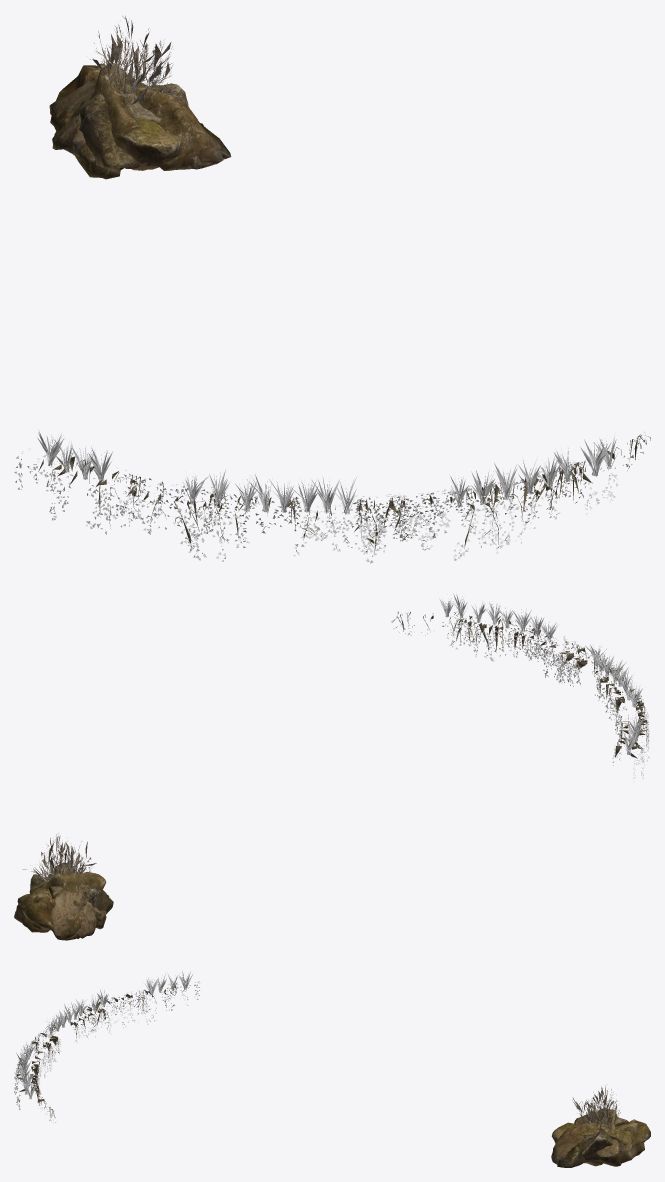
Rendered from vegetation.glb.
3 renders of one model, top to bottom at view 1: azimuth 30°, elevation 25°; view 2: azimuth 150°, elevation 25°; view 3: azimuth 270°, elevation 25°, orthographic. The views are drawn at different scales.
Parts seen in each view (by area): view 1: VEG_17, VEG_21, VEG_28, VEG_18, VEG_30, VEG_32, VEG_31, VEG_20, VEG_7, VEG_33, VEG_23, VEG_8; view 2: VEG_17, VEG_18, VEG_32, VEG_20, VEG_28, VEG_30, VEG_7, VEG_21, VEG_33, VEG_31, VEG_23; view 3: VEG_17, VEG_28, VEG_18, VEG_33, VEG_31, VEG_20, VEG_21, VEG_32, VEG_7, VEG_30, VEG_23, VEG_8 (+1 smaller).
Boxes of the visible parts, box(x1,y1,x2,y2) form: VEG_17: box(37, 430, 617, 514); VEG_21: box(14, 448, 618, 563); VEG_28: box(50, 65, 223, 179); VEG_18: box(69, 431, 645, 540); VEG_30: box(71, 83, 188, 167); VEG_32: box(49, 76, 231, 169); VEG_31: box(65, 79, 182, 170); VEG_20: box(69, 435, 650, 537); VEG_7: box(90, 16, 178, 104); VEG_33: box(73, 63, 143, 155); VEG_23: box(38, 459, 592, 553); VEG_8: box(101, 36, 170, 102); VEG_17: box(439, 594, 644, 754); VEG_18: box(390, 611, 628, 762); VEG_32: box(45, 883, 96, 940); VEG_20: box(392, 611, 629, 757); VEG_28: box(22, 863, 106, 939); VEG_30: box(29, 874, 113, 914); VEG_7: box(22, 834, 96, 882); VEG_21: box(454, 608, 649, 782); VEG_33: box(17, 872, 100, 938); VEG_31: box(14, 871, 106, 932); VEG_23: box(469, 616, 647, 775); VEG_17: box(16, 971, 192, 1099); VEG_28: box(551, 1119, 650, 1166); VEG_18: box(30, 990, 188, 1121); VEG_33: box(574, 1108, 621, 1166); VEG_31: box(551, 1122, 637, 1163); VEG_20: box(29, 990, 187, 1120); VEG_21: box(14, 981, 200, 1109); VEG_32: box(557, 1117, 628, 1167); VEG_7: box(572, 1085, 622, 1129); VEG_30: box(581, 1126, 620, 1160); VEG_23: box(16, 985, 187, 1102); VEG_8: box(585, 1091, 619, 1130).
Size of what is drawn, in the model's own units: 11.56 by 2.83 by 21.42.
Materials: 12 (8 with a texture image).
